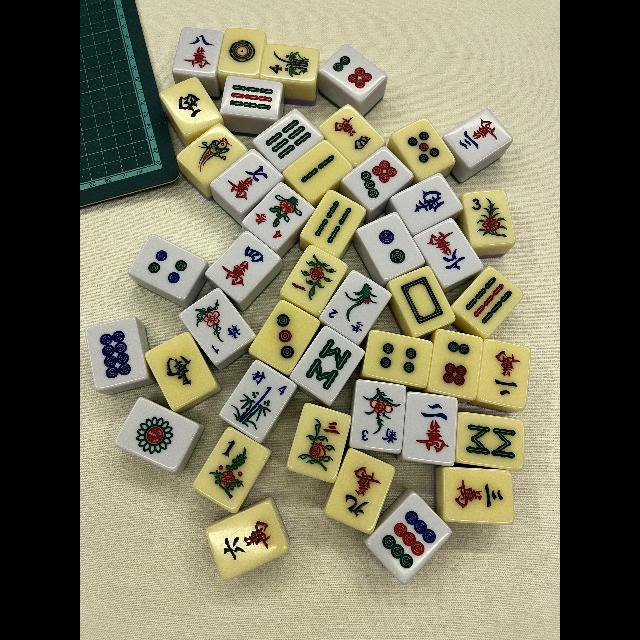b1: (188, 132, 236, 176)
b2: (293, 150, 343, 190)
b4: (308, 196, 356, 248)
b6: (264, 117, 312, 161)
b8: (456, 416, 524, 464), (304, 334, 354, 394)
b9: (464, 274, 514, 328), (224, 77, 278, 116)
c2: (406, 395, 456, 461), (480, 344, 528, 408)
c3: (443, 468, 512, 522), (454, 114, 504, 156)
c4: (219, 240, 269, 292), (328, 110, 377, 158)
c6: (215, 512, 282, 570), (423, 225, 475, 281)
c7: (226, 160, 270, 204)
c8: (176, 29, 218, 73)
c9: (333, 455, 385, 523)
d1: (124, 405, 188, 459), (222, 29, 260, 72)
d2: (364, 218, 416, 274)
d3: (260, 306, 308, 364)
d4: (368, 332, 428, 382), (139, 242, 197, 292)
d5: (399, 122, 445, 172)
d6: (434, 334, 478, 394), (328, 51, 377, 94)
d7: (351, 156, 405, 200)
d8: (91, 322, 140, 384)
d9: (376, 504, 440, 572)
dw: (397, 271, 448, 329)
f1: (207, 322, 245, 360)
f1-s: (206, 434, 258, 500)
f2: (328, 304, 366, 338)
f3: (352, 423, 403, 449)
f3-s: (470, 192, 510, 244)
f4: (247, 368, 289, 400)
f4-s: (264, 47, 316, 77)
s1-s: (288, 252, 338, 306)
s3-s: (296, 409, 346, 478)
s4: (250, 211, 288, 243)
ws: (158, 341, 205, 401), (402, 182, 453, 224)
ww: (168, 81, 212, 130)
